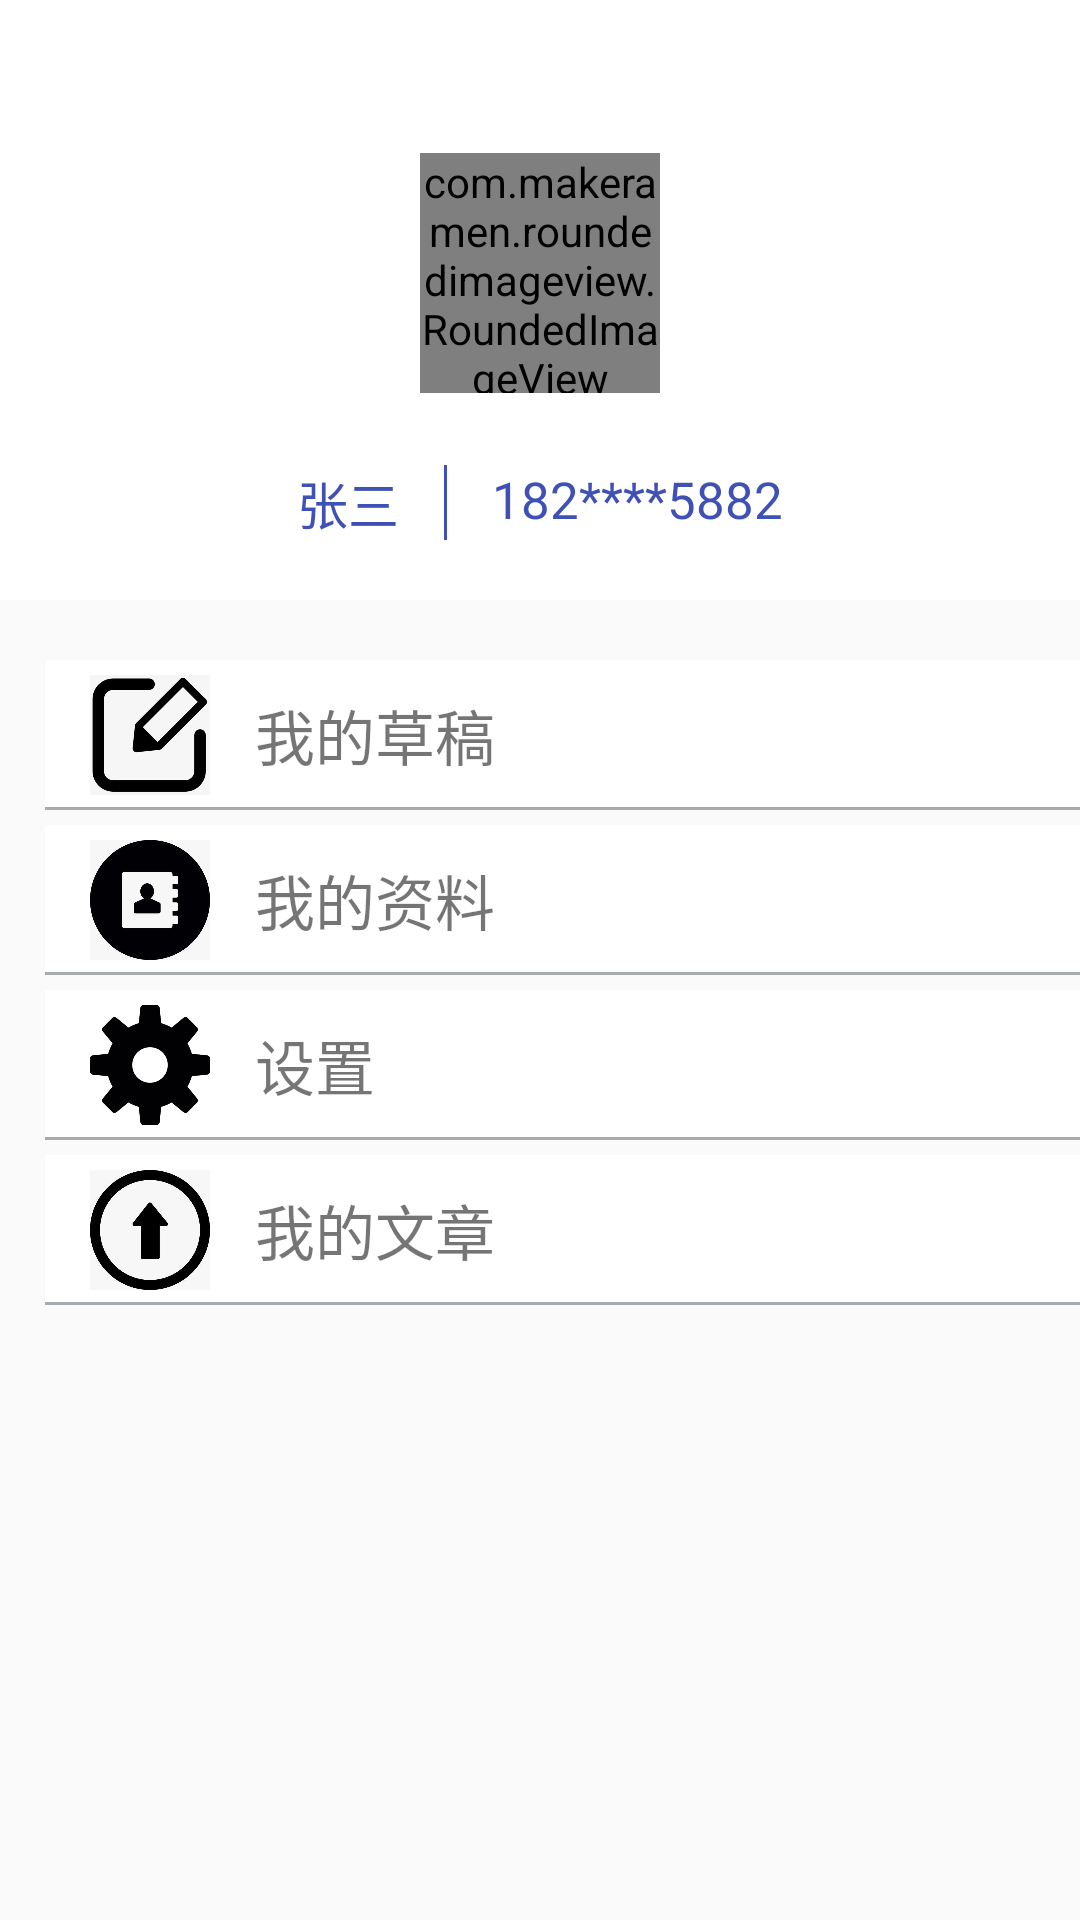

Where icons sit on this 1080×1920 app screen, as box(x1, y1, x2, y2):
myupload: box(90, 1170, 210, 1290)
setting: box(90, 1005, 210, 1125)
